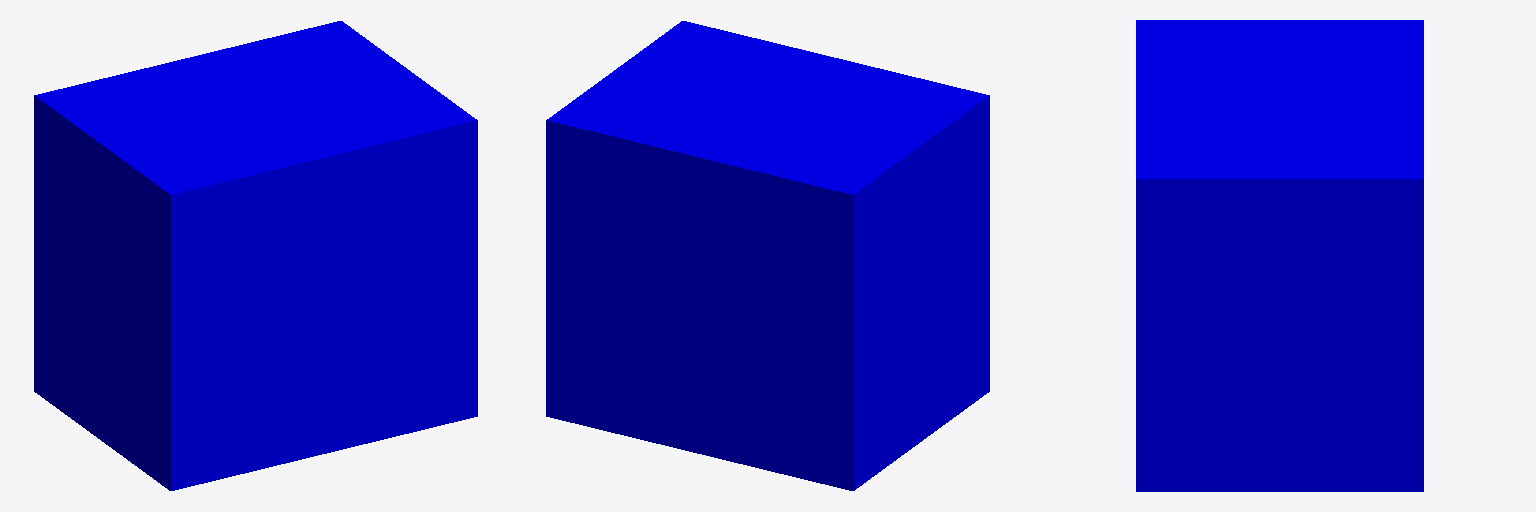
robot.urdf — caja_simple_robot:
<?xml version="1.0"?>
<robot name="caja_simple_robot">
  <!-- Definición del único link con una caja como geometría de colisión y visualización -->
  <link name="link_caja">
    <visual>
      <origin xyz="-0.1 0 0" rpy="0 0 0"/> 
      <geometry>
        <box size="0.26 0.2 0.24"/>
      </geometry>
      <material name="azul">
        <color rgba="0 0 1 1"/>
      </material>
    </visual>
    <collision>
      <origin xyz="-0.1 0 0" rpy="0 0 0"/>
      <geometry>
        <box size="0.26 0.2 0.24"/>
      </geometry>
    </collision>
    <inertial>
      <mass value="1.0"/>
      <origin xyz="0 0 0"/>
      <inertia ixx="0.01" ixy="0" ixz="0" iyy="0.01" iyz="0" izz="0.01"/>
    </inertial>
  </link>

  <!-- Base del robot (no necesariamente requerido para un modelo estático, pero útil para definiciones completas) -->
  <link name="base_link">
  </link>

  <!-- Joint ficticio para conectar la base con el link de la caja -->
  <joint name="base_to_caja_joint" type="fixed">
    <parent link="base_link"/>
    <child link="link_caja"/>
    <origin xyz="-0.0 0 0" rpy="0 0 0"/>
  </joint>
</robot>

--- Facts derived from the render (not from the file) ---
Views: 3 orthographic renders of the robot side by side, from view 1: azimuth 30°, elevation 25°; view 2: azimuth 150°, elevation 25°; view 3: azimuth 270°, elevation 25°.
Model caja_simple_robot with 2 links and 1 joints (1 fixed), rooted at base_link, posed every joint at zero.
Visible links, largest first — view 1: link_caja; view 2: link_caja; view 3: link_caja.
Link boxes in pixels (x1,y1,x2,y2): link_caja: (34, 21, 477, 490); link_caja: (546, 21, 989, 490); link_caja: (1136, 20, 1423, 491).
Size in the robot's own frame: 0.26 by 0.2 by 0.24 metres.
Geometry: primitives only (box / cylinder / sphere), no mesh files.